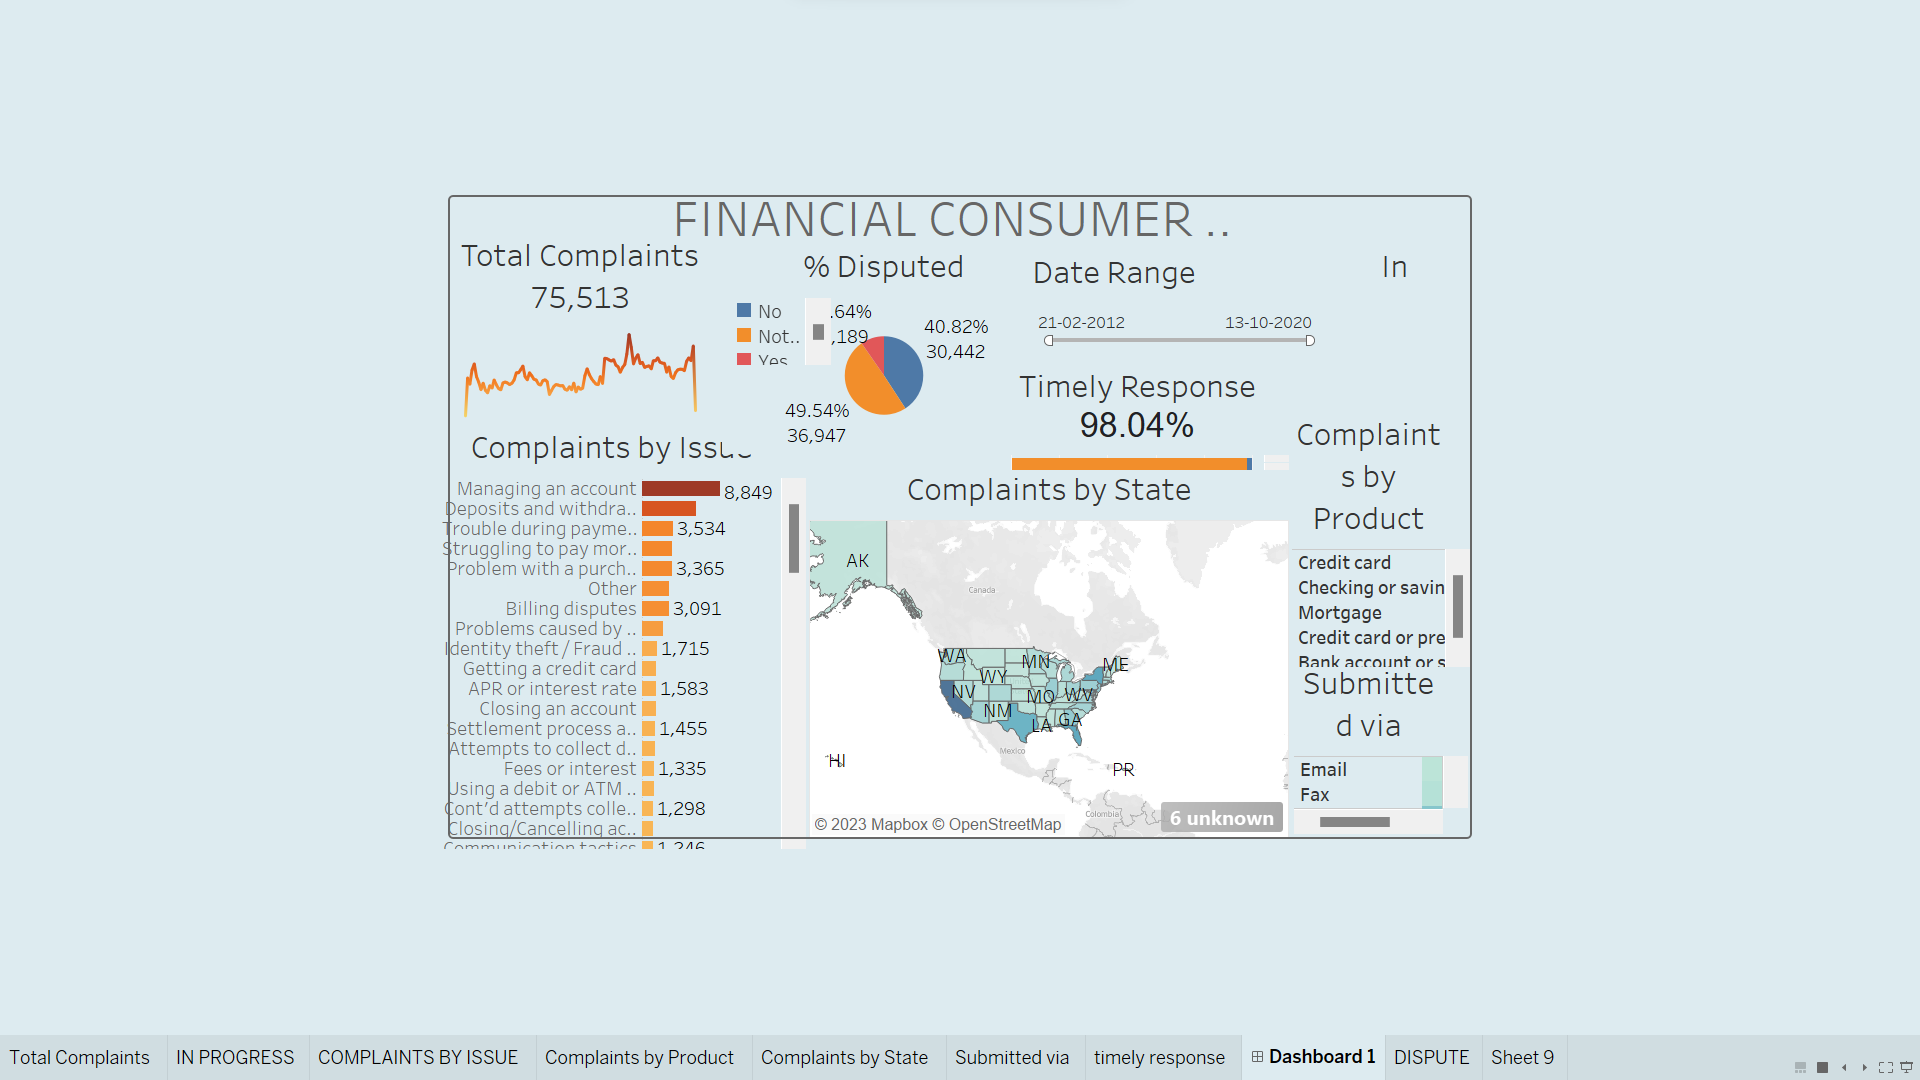

This screenshot's page, from the dashboard's own definition file:
{"tool":"tableau","page":{"name":"Dashboard 1","canvas":[1000,1000],"units":"permille","ordinal":0},"visuals":[{"type":"text","box":[214.9,2.7,550.5,61.2]},{"type":"worksheet","title":"Total Complaints","mark":"Automatic","rows":["Calculation_1288029553519976448"],"cols":["Date Sumbited"],"box":[3.8,53.2,250.5,301.9]},{"type":"worksheet","title":"IN PROGRESS","mark":"Automatic","box":[856.3,69.2,136.1,150.3]},{"type":"worksheet","title":"DISPUTE","mark":"Pie","box":[267.6,70.5,316,332.4]},{"type":"worksheet","title":"Sheet 9","mark":"Automatic","box":[563.2,78.5,173.6,183.5]},{"type":"filter","title":"Sheet 9","param":"[federated.1a4l4vb0a0qinw1fsmidc19yct54].[none:Date Sumbited:qk]","box":[571.5,137,279.7,99.7]},{"type":"legend","title":"DISPUTE","param":"[federated.1a4l4vb0a0qinw1fsmidc19yct54].[none:Consumer disputed?:nk]","box":[277.8,159.6,98.5,105]},{"type":"worksheet","title":"timely response","mark":"Automatic","box":[549.9,256.6,271.5,170.2]},{"type":"worksheet","title":"Complaints by Product","mark":"Square","rows":["Product"],"box":[824.5,331.1,173.6,402.9]},{"type":"worksheet","title":"Complaints by State","mark":"Automatic","box":[352.2,416.2,469.2,582.5]},{"type":"worksheet","title":"Submitted via","mark":"Square","rows":["Submitted via"],"box":[826.5,716.8,169.7,275.3]}]}

Visuals, with their boxes on the dashboard's canvas, which has no fixed pixel size, in thousandths of its width and height (x1, y1, x2, y2). These are canvas units, not pixel positions in the 1920x1080 screenshot, which may show the page scaled, cropped or inside an application window:
text: bbox=(215, 3, 765, 64)
"Total Complaints" worksheet: bbox=(4, 53, 254, 355)
"IN PROGRESS" worksheet: bbox=(856, 69, 992, 220)
"DISPUTE" worksheet (Pie marks): bbox=(268, 70, 584, 403)
"Sheet 9" worksheet: bbox=(563, 78, 737, 262)
"Sheet 9" filter: bbox=(572, 137, 851, 237)
"DISPUTE" legend: bbox=(278, 160, 376, 265)
"timely response" worksheet: bbox=(550, 257, 821, 427)
"Complaints by Product" worksheet (Square marks): bbox=(824, 331, 998, 734)
"Complaints by State" worksheet: bbox=(352, 416, 821, 999)
"Submitted via" worksheet (Square marks): bbox=(826, 717, 996, 992)
